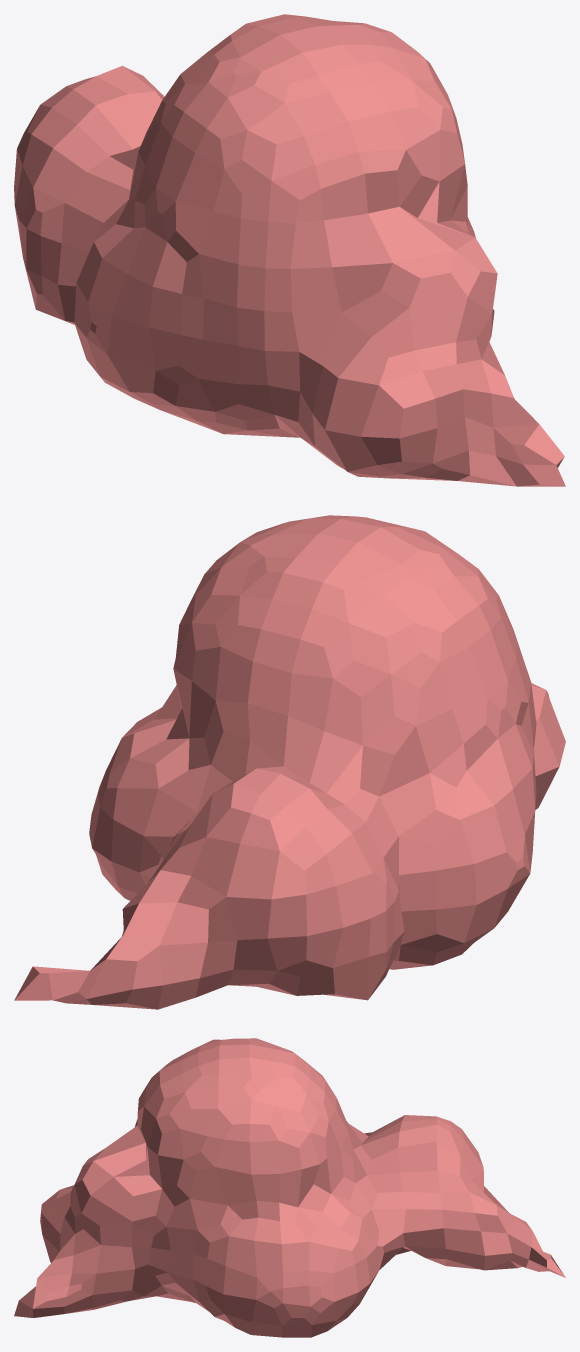
Rendered from st1_cloud5.fbx.
3 renders of one model, top to bottom at view 1: azimuth 30°, elevation 25°; view 2: azimuth 150°, elevation 25°; view 3: azimuth 270°, elevation 25°, orthographic. The views are drawn at different scales.
Parts seen in each view (by area): view 1: Sphere_012; view 2: Sphere_012; view 3: Sphere_012.
Boxes of the visible parts, box(x1,y1,x2,y2) form: Sphere_012: box(14, 14, 565, 486); Sphere_012: box(14, 515, 565, 1009); Sphere_012: box(14, 1038, 565, 1337).
Size of the model in its own units: 1147 by 1057 by 2099.
